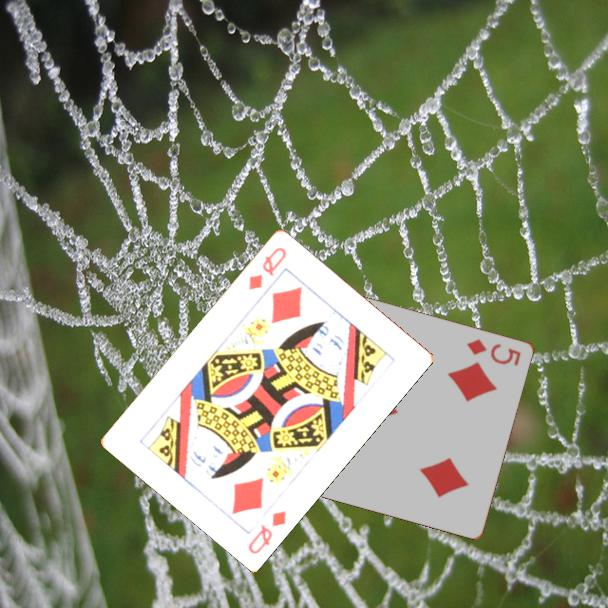d05: (463, 335, 524, 368)
d12: (244, 506, 289, 556), (245, 243, 290, 292)
